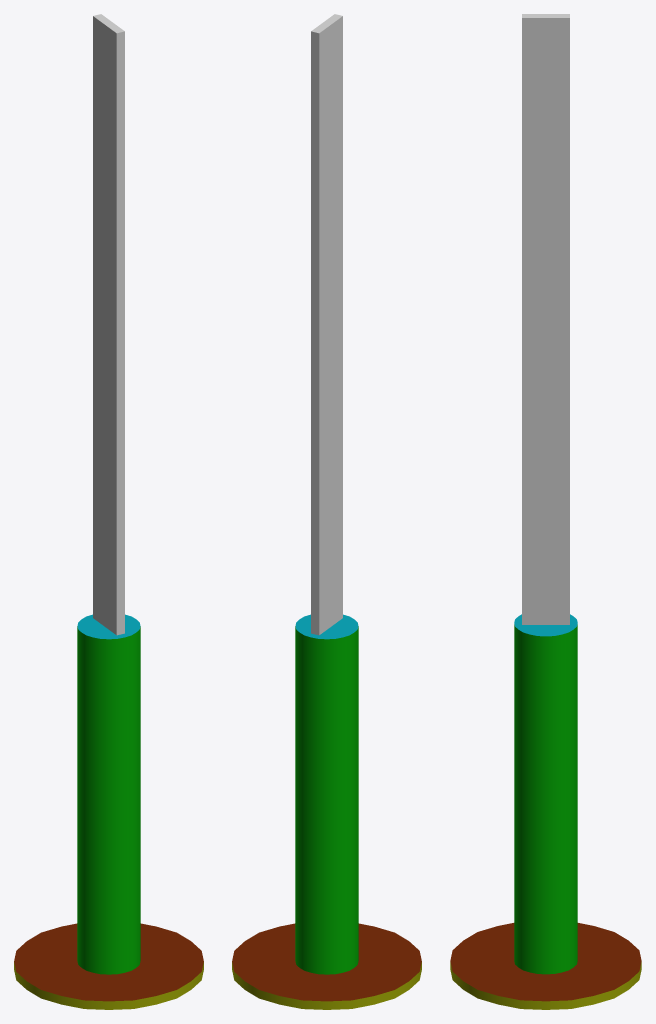
The model's file is tesla-bobin.FBX.
The picture shows the model from 3 angles, left to right: view 1: azimuth 30°, elevation 25°; view 2: azimuth 150°, elevation 25°; view 3: azimuth 270°, elevation 25°; orthographic projection.
Visible parts, largest first — view 1: Cylinder003, Object003; view 2: Cylinder003, Object003; view 3: Cylinder003, Object003.
Part boxes in pixels (box(x1,y1,x2,y2)): Cylinder003: box(14, 614, 203, 1009); Object003: box(93, 14, 124, 635); Cylinder003: box(232, 614, 421, 1009); Object003: box(311, 14, 342, 635); Cylinder003: box(450, 614, 641, 1009); Object003: box(522, 14, 569, 624).
Bounding box in the file's own units: 20 × 110 × 20.
